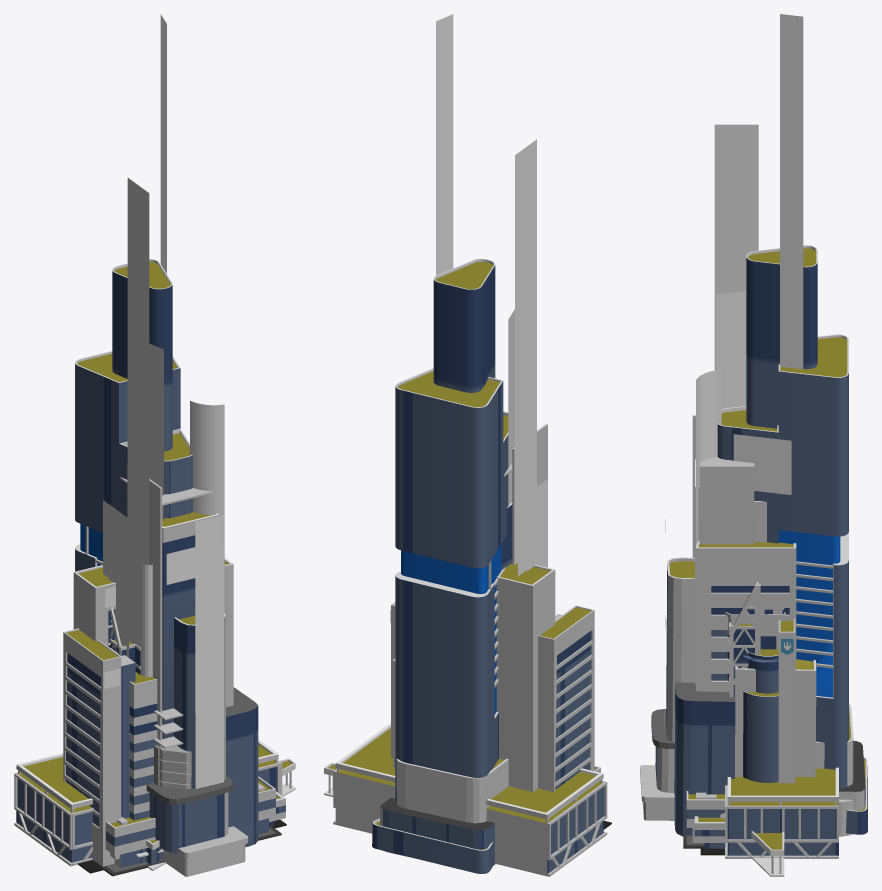
Rendered from Towers.fbx.
3 renders of one model, left to right at view 1: azimuth 30°, elevation 25°; view 2: azimuth 150°, elevation 25°; view 3: azimuth 270°, elevation 25°, orthographic. The views are drawn at different scales.
Visible parts, largest first — view 1: Tower-10, Tower-12, Tower-03, Tower-02, Tower-09, Tower-06, Tower-08, Tower-11, Tower-04, Tower-01; view 2: Tower-03, Tower-10, Tower-02, Tower-09, Tower-12, Tower-04, Tower-08; view 3: Tower-03, Tower-10, Tower-12, Tower-09, Tower-04, Tower-01, Tower-08, Tower-11, Tower-06.
Boxes of the visible parts, x1,y1,x2,y2 form: Tower-10: [14, 178, 282, 866]; Tower-12: [146, 515, 258, 876]; Tower-03: [75, 14, 192, 571]; Tower-02: [63, 504, 286, 873]; Tower-09: [73, 400, 281, 876]; Tower-06: [110, 672, 285, 859]; Tower-08: [103, 500, 275, 872]; Tower-11: [129, 554, 152, 676]; Tower-04: [146, 758, 295, 870]; Tower-01: [109, 607, 140, 674]; Tower-03: [372, 14, 514, 873]; Tower-10: [333, 139, 607, 876]; Tower-02: [527, 479, 611, 829]; Tower-09: [496, 561, 555, 791]; Tower-12: [380, 659, 508, 864]; Tower-04: [324, 602, 395, 796]; Tower-08: [518, 495, 600, 772]; Tower-03: [716, 14, 867, 834]; Tower-10: [692, 124, 838, 858]; Tower-12: [640, 519, 865, 836]; Tower-09: [683, 369, 796, 848]; Tower-04: [741, 618, 795, 876]; Tower-01: [729, 582, 760, 697]; Tower-08: [686, 608, 784, 844]; Tower-11: [724, 612, 785, 680]; Tower-06: [694, 813, 727, 848].
Size of the model in its own units: 13281 by 40742 by 10464.
